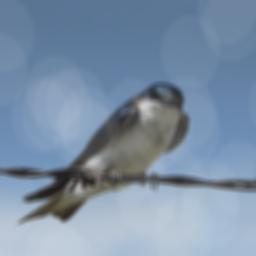Swallow: (20, 83, 191, 224)
